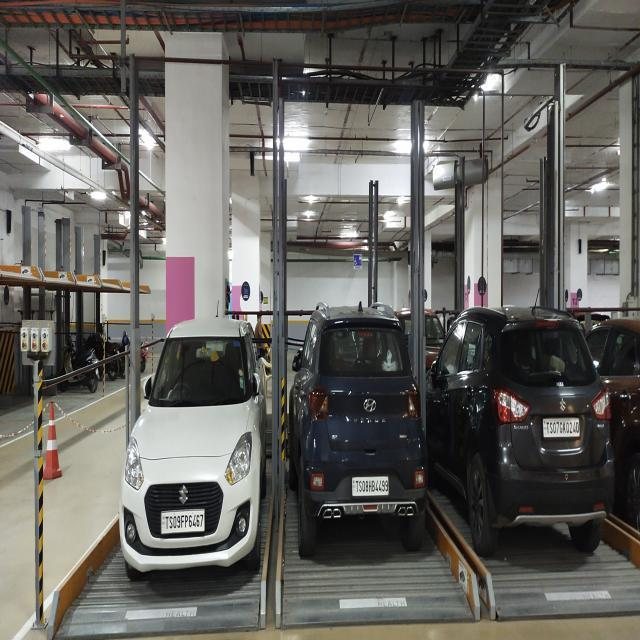space-occupied: (275, 320, 489, 638), (422, 300, 640, 581), (132, 326, 289, 631)
